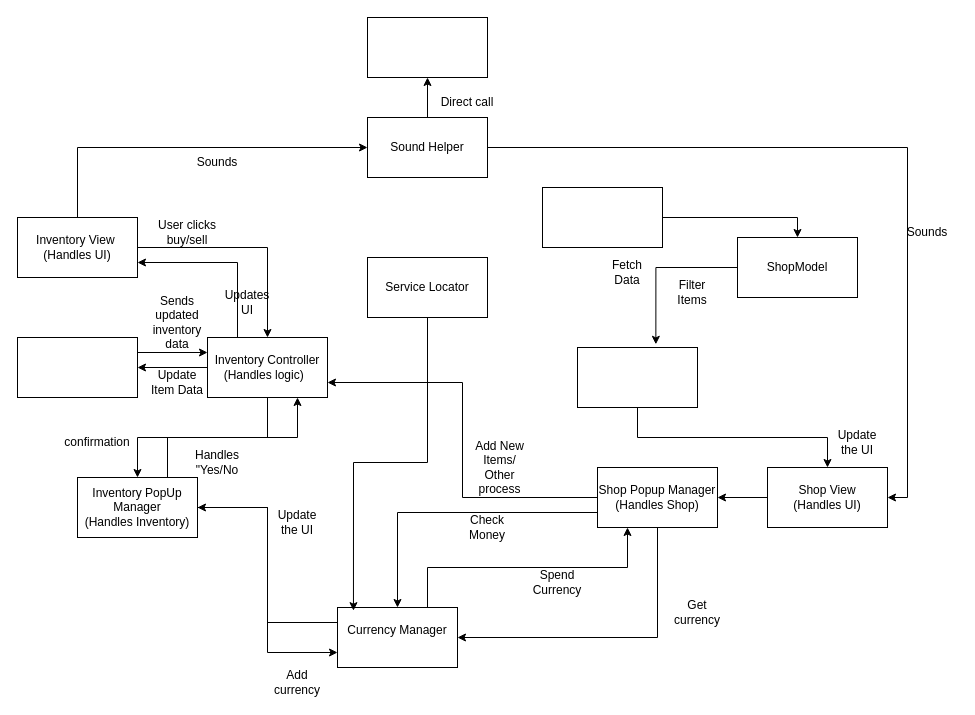
The diagram is 975 pixels wide and 715 high, and some of its shapes have lost their labels. The shapes that lost their labels are listed below. From the top down, each one's centre as x and y in pixels, then its label:
At (427,47): "Sound Manager".
At (602,217): "Shop Service Locator".
At (77,367): "Inventory Model (Stores Data)".
At (637,377): "Shop Controller (Handles logic)".
